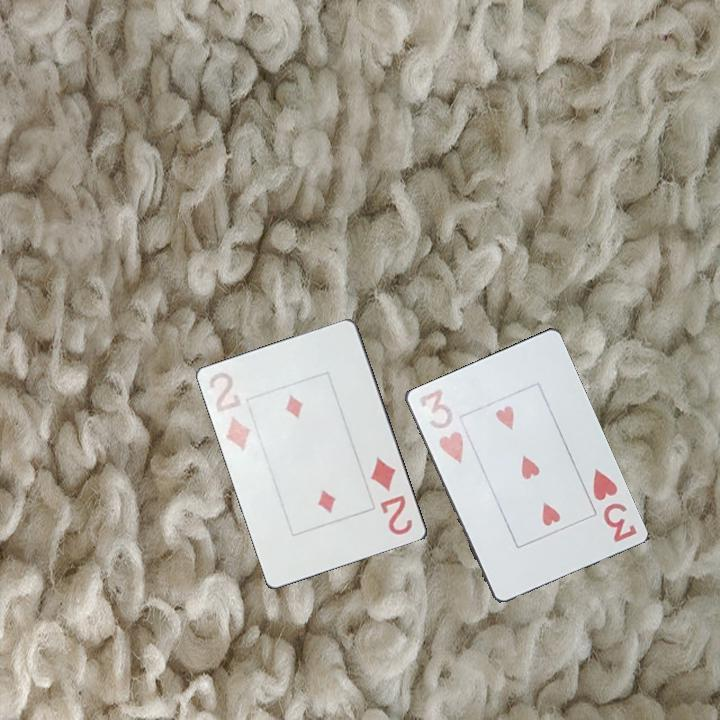2d: (202, 369, 256, 454), (368, 453, 417, 538)
3h: (414, 386, 466, 466), (589, 465, 641, 545)
